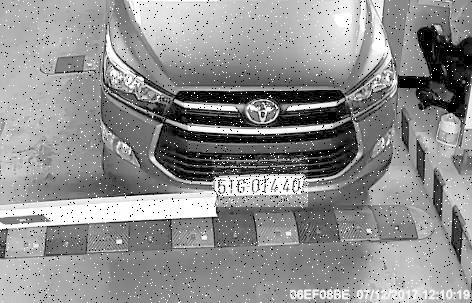License-plate: (214, 156, 311, 208)
